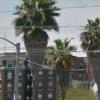Palm tree: (11, 3, 70, 88)
